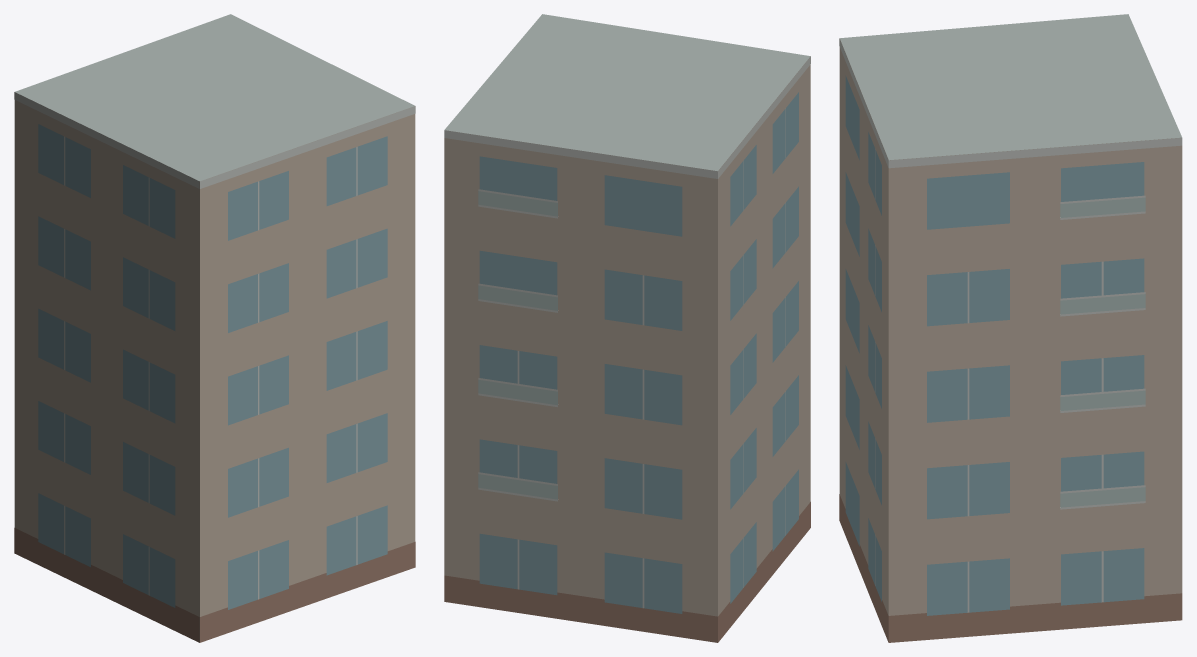
Rendered from survey-upis-32930931.glb.
3 renders of one model, left to right at view 1: azimuth 30°, elevation 25°; view 2: azimuth 150°, elevation 25°; view 3: azimuth 270°, elevation 25°, orthographic. The views are drawn at different scales.
Visible parts, largest first — view 1: survey-upis-32930931.tmp; view 2: survey-upis-32930931.tmp; view 3: survey-upis-32930931.tmp.
Part boxes in pixels (x1,y1,x2,y2): survey-upis-32930931.tmp: (14, 14, 415, 642); survey-upis-32930931.tmp: (444, 14, 810, 642); survey-upis-32930931.tmp: (839, 14, 1182, 642).
Size of the model in its own units: 9.46 by 14.55 by 9.37.
